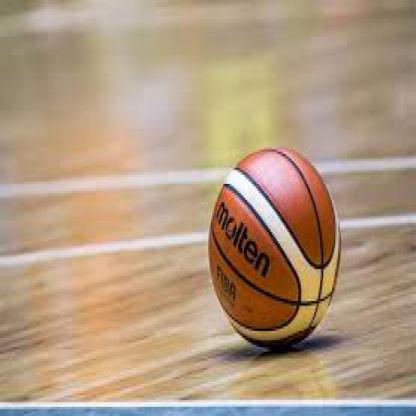basketball: (208, 147, 341, 352)
